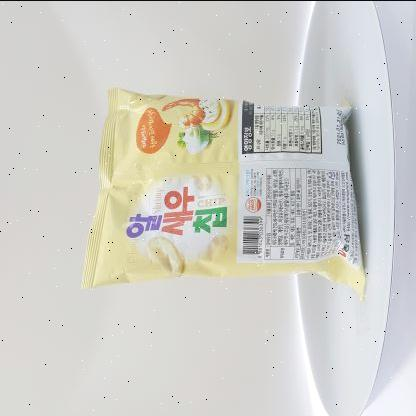Others: (74, 81, 370, 311)
